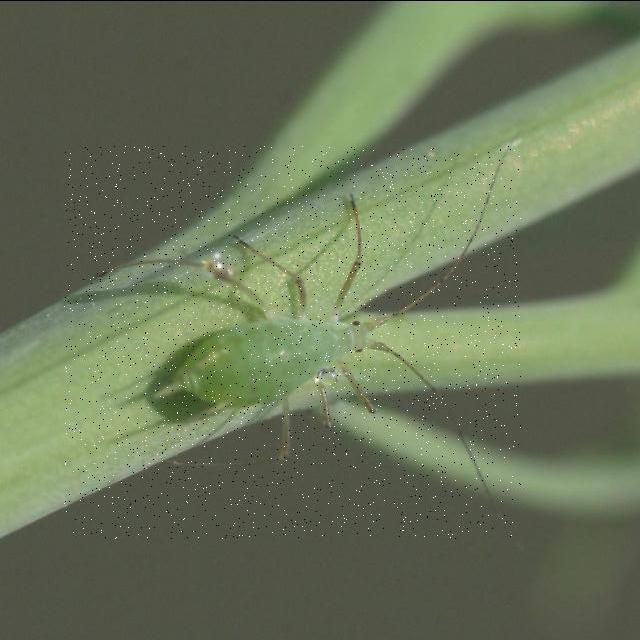aphid: (64, 145, 521, 538)
